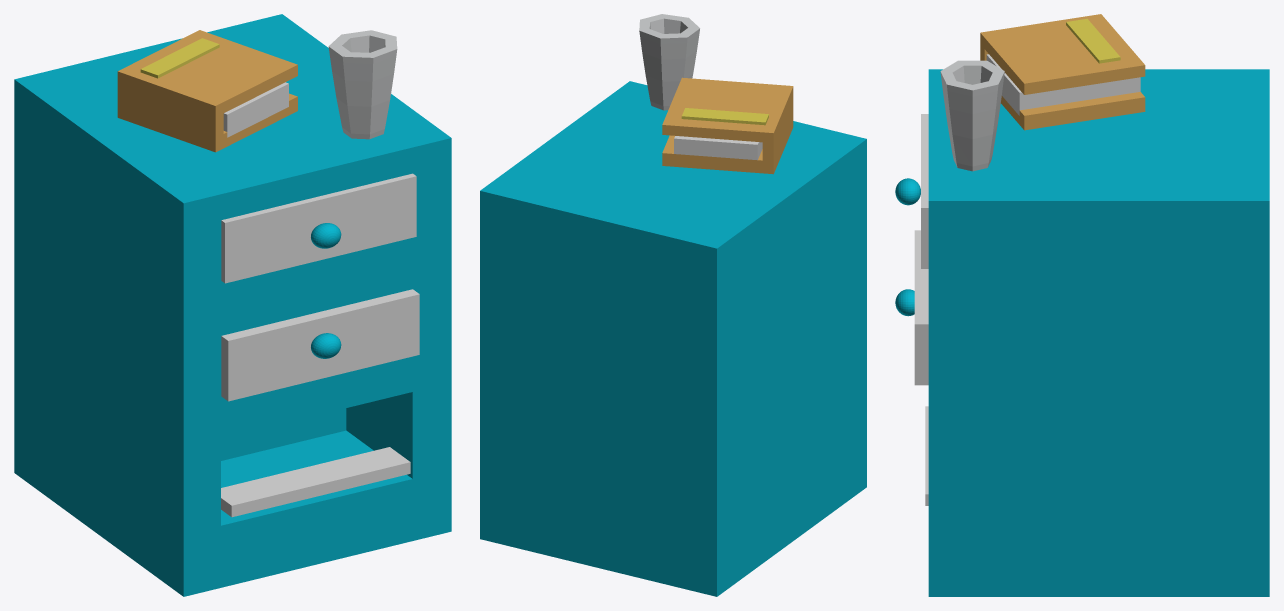
Rendered from pro-149 nightstand.glb.
3 views of the same model, side by side, from view 1: azimuth 30°, elevation 25°; view 2: azimuth 150°, elevation 25°; view 3: azimuth 270°, elevation 25° (orthographic). The views are drawn at different scales.
Parts seen in each view (by area): view 1: Mesh_Mesh_head_geo.001_lambert2SG.001; view 2: Mesh_Mesh_head_geo.001_lambert2SG.001; view 3: Mesh_Mesh_head_geo.001_lambert2SG.001.
Boxes of the visible parts, <box> form: Mesh_Mesh_head_geo.001_lambert2SG.001: <box>14,14,451,596</box>; Mesh_Mesh_head_geo.001_lambert2SG.001: <box>480,14,866,596</box>; Mesh_Mesh_head_geo.001_lambert2SG.001: <box>895,14,1269,596</box>.
Size of the model in its own units: 48.35 by 84 by 58.12.
